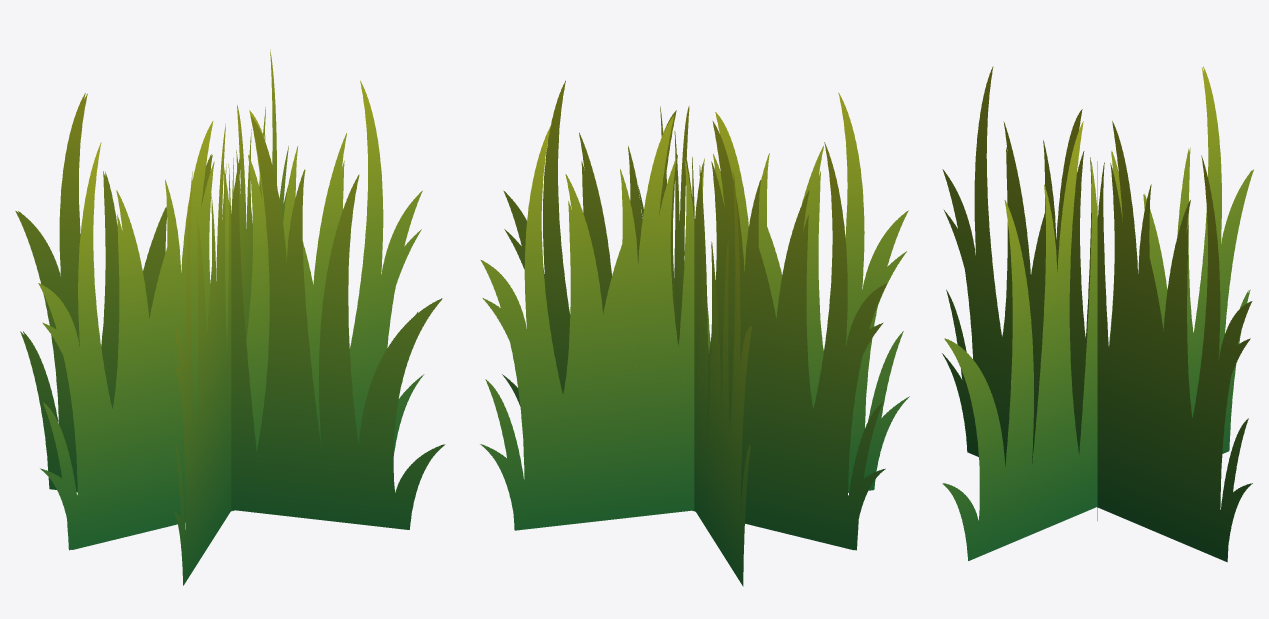
File: Grass2.fbx
3 renders of one model, left to right at view 1: azimuth 30°, elevation 25°; view 2: azimuth 150°, elevation 25°; view 3: azimuth 270°, elevation 25°, orthographic.
Visible parts, largest first — view 1: Plane.001; view 2: Plane.001; view 3: Plane.001.
Boxes of the visible parts, <box> form: Plane.001: <box>15,49,445,585</box>; Plane.001: <box>480,80,909,586</box>; Plane.001: <box>942,66,1253,562</box>.
Bounding box in the file's own units: 200 × 200 × 142.
1 material, 1 textured.
